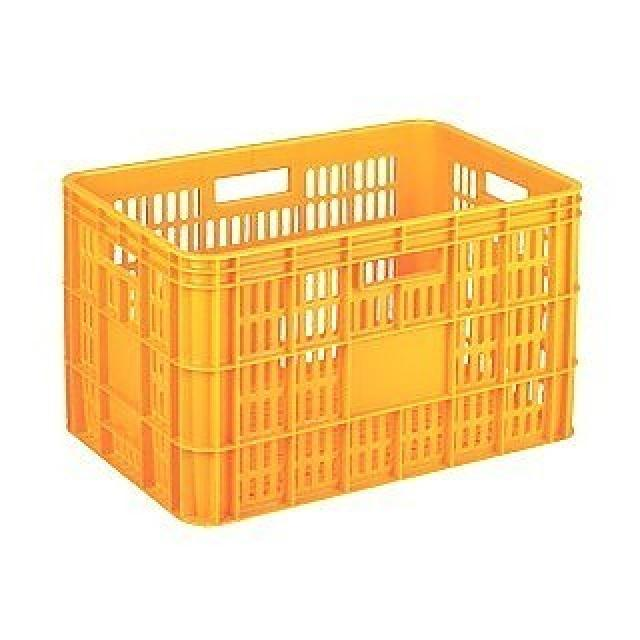basket: (29, 94, 627, 546)
